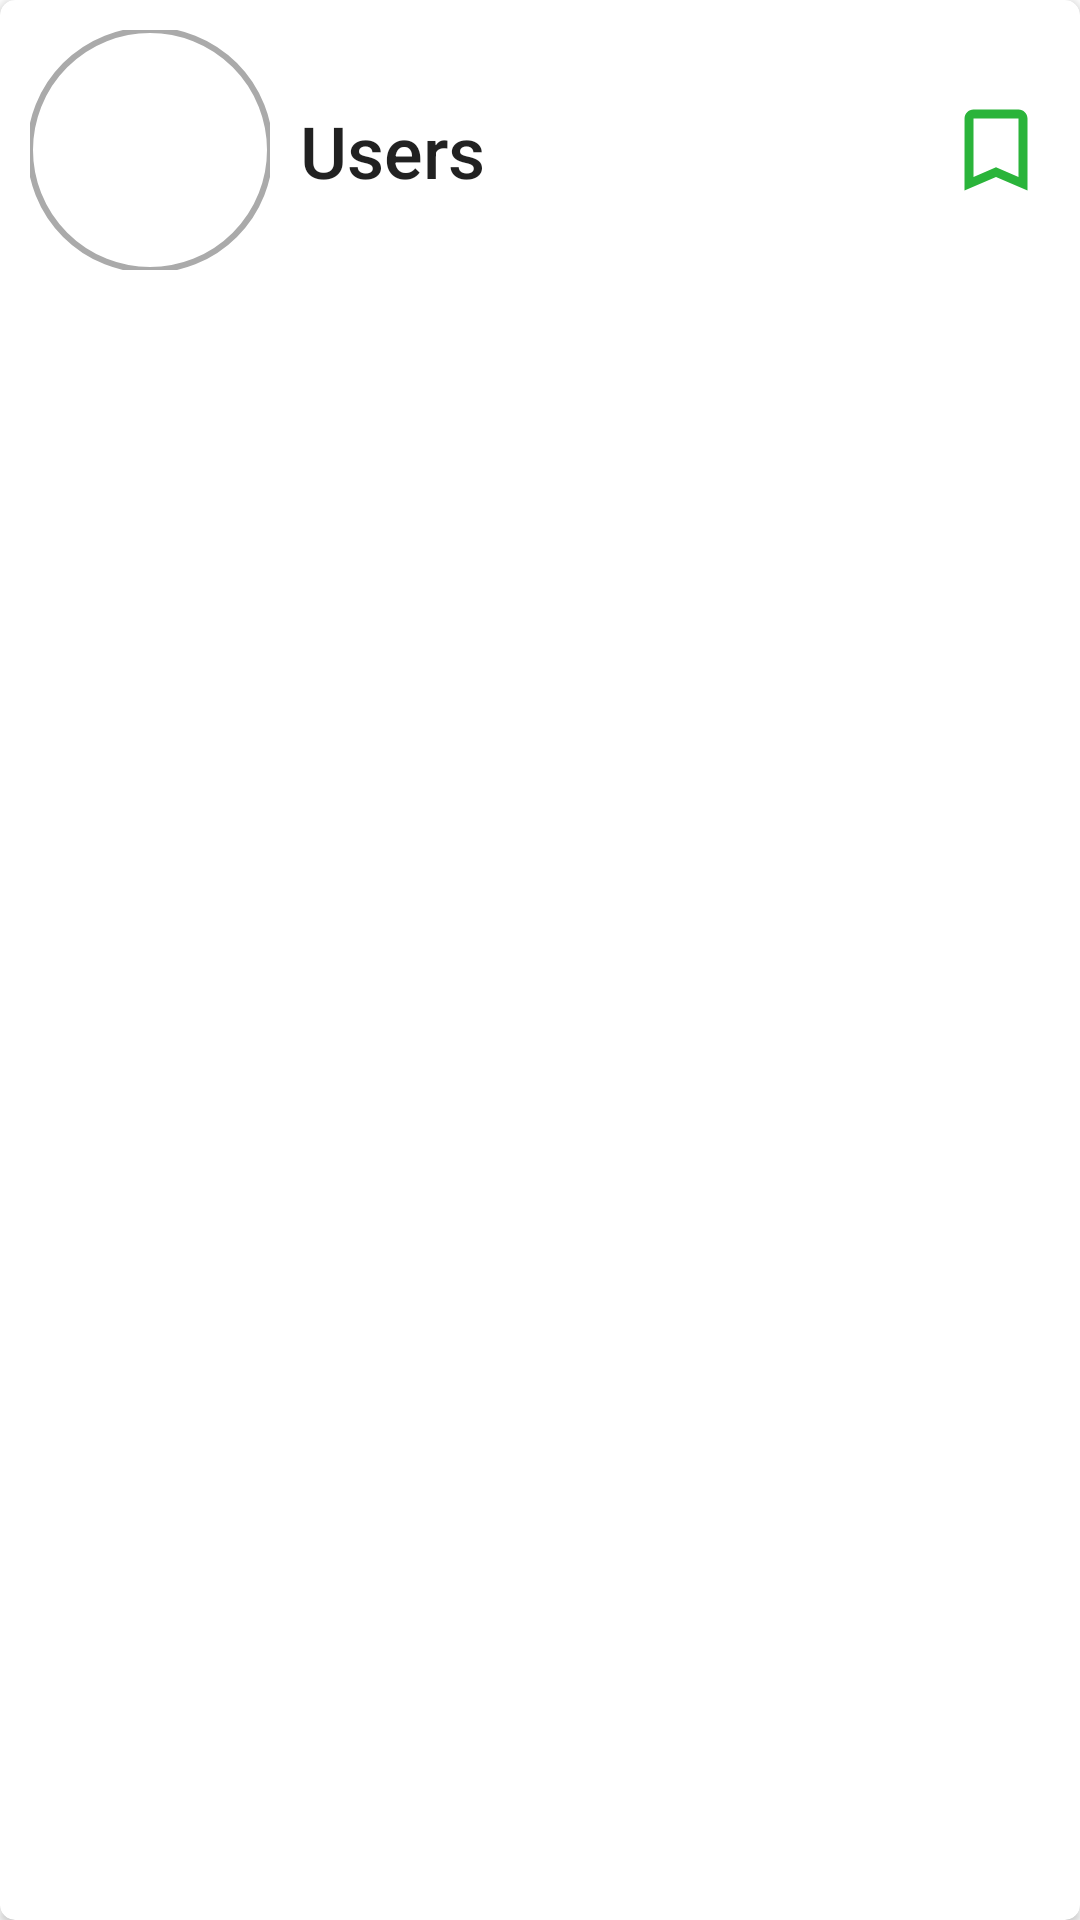

Screen size 1080 × 1920. Icon name, then its center in pixels as point (x, y):
bookmark: point (996, 150)
